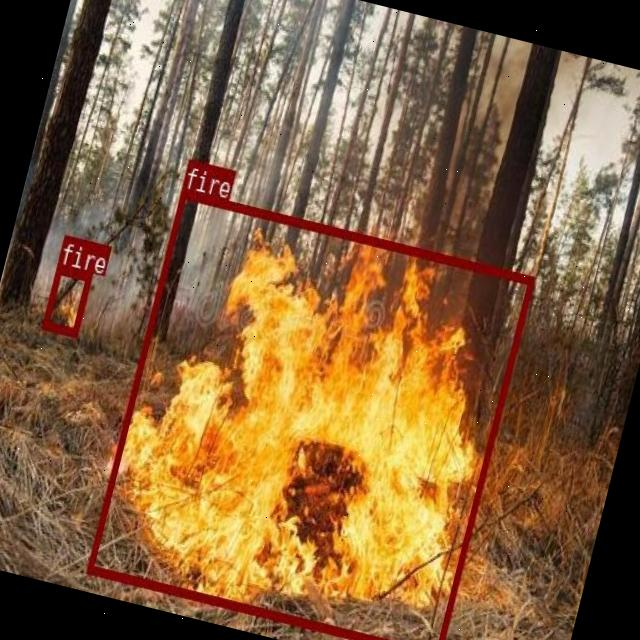fire: (85, 187, 533, 640), (40, 264, 91, 336)
